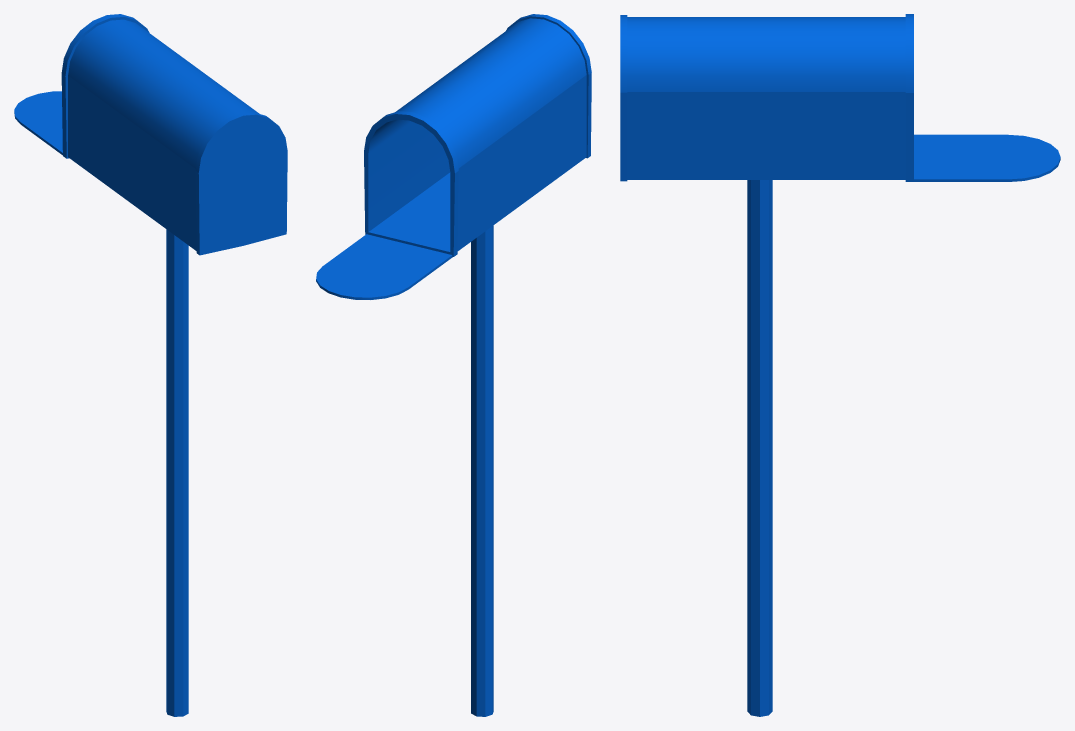
The model's file is Mailbox_01_Lod0.fbx.
3 views of the same model, side by side, from view 1: azimuth 30°, elevation 25°; view 2: azimuth 150°, elevation 25°; view 3: azimuth 270°, elevation 25° (orthographic). The views are drawn at different scales.
Parts seen in each view (by area): view 1: Mailbox_01_Lod0; view 2: Mailbox_01_Lod0; view 3: Mailbox_01_Lod0.
Part boxes in pixels (x1,y1,x2,y2): Mailbox_01_Lod0: (14, 14, 287, 716); Mailbox_01_Lod0: (316, 14, 591, 716); Mailbox_01_Lod0: (620, 14, 1060, 716).
Size of the model in its own units: 20.82 by 142 by 81.72.
